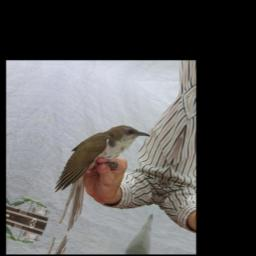Cuckoo: (43, 112, 153, 242)
